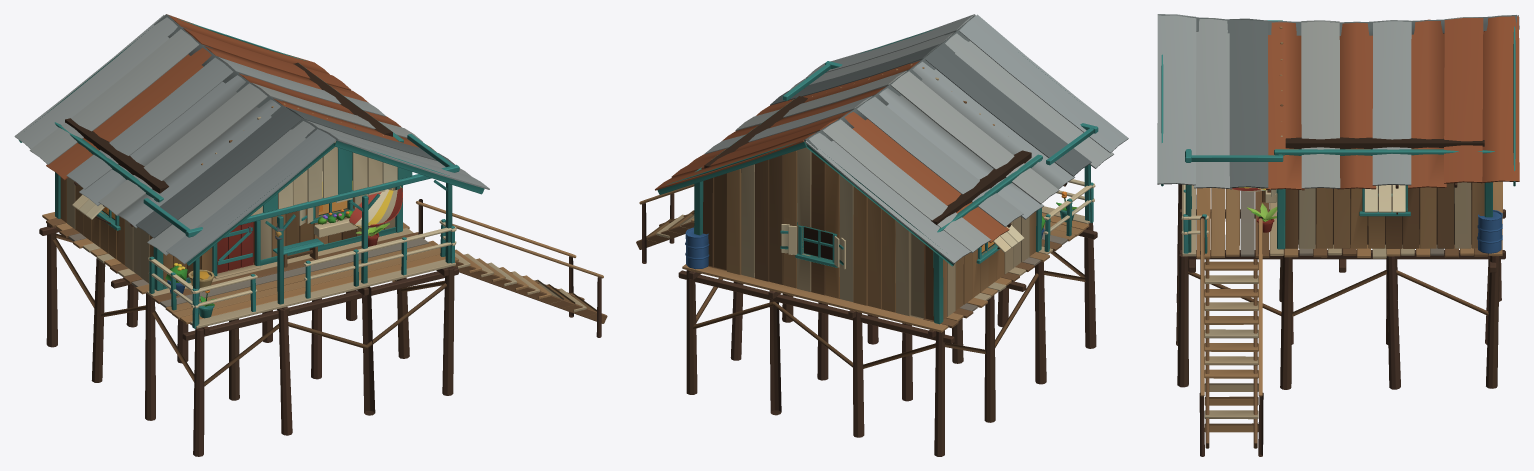
File: stilt_house_a-Br_BFyqH.glb
3 views of the same model, side by side, from view 1: azimuth 30°, elevation 25°; view 2: azimuth 150°, elevation 25°; view 3: azimuth 270°, elevation 25° (orthographic). The views are drawn at different scales.
Visible parts, largest first — view 1: stilt_house_a; view 2: stilt_house_a; view 3: stilt_house_a.
Part boxes in pixels (left/top/right/bottom): stilt_house_a: left=14, top=14, right=607, bottom=456; stilt_house_a: left=636, top=14, right=1128, bottom=456; stilt_house_a: left=1157, top=14, right=1519, bottom=456.
Bounding box in the file's own units: 13.1 × 8.19 × 8.73.
